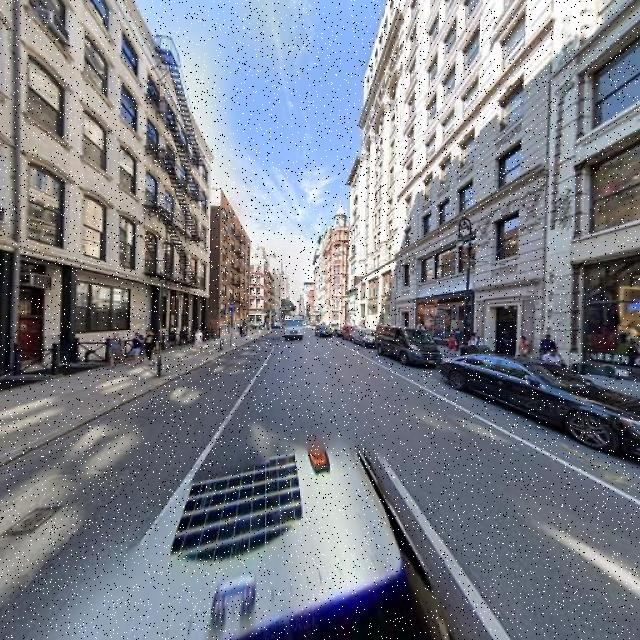Building: (1, 1, 208, 380), (398, 1, 550, 365), (557, 1, 640, 380), (363, 1, 395, 338), (219, 187, 248, 335), (350, 169, 360, 332)
